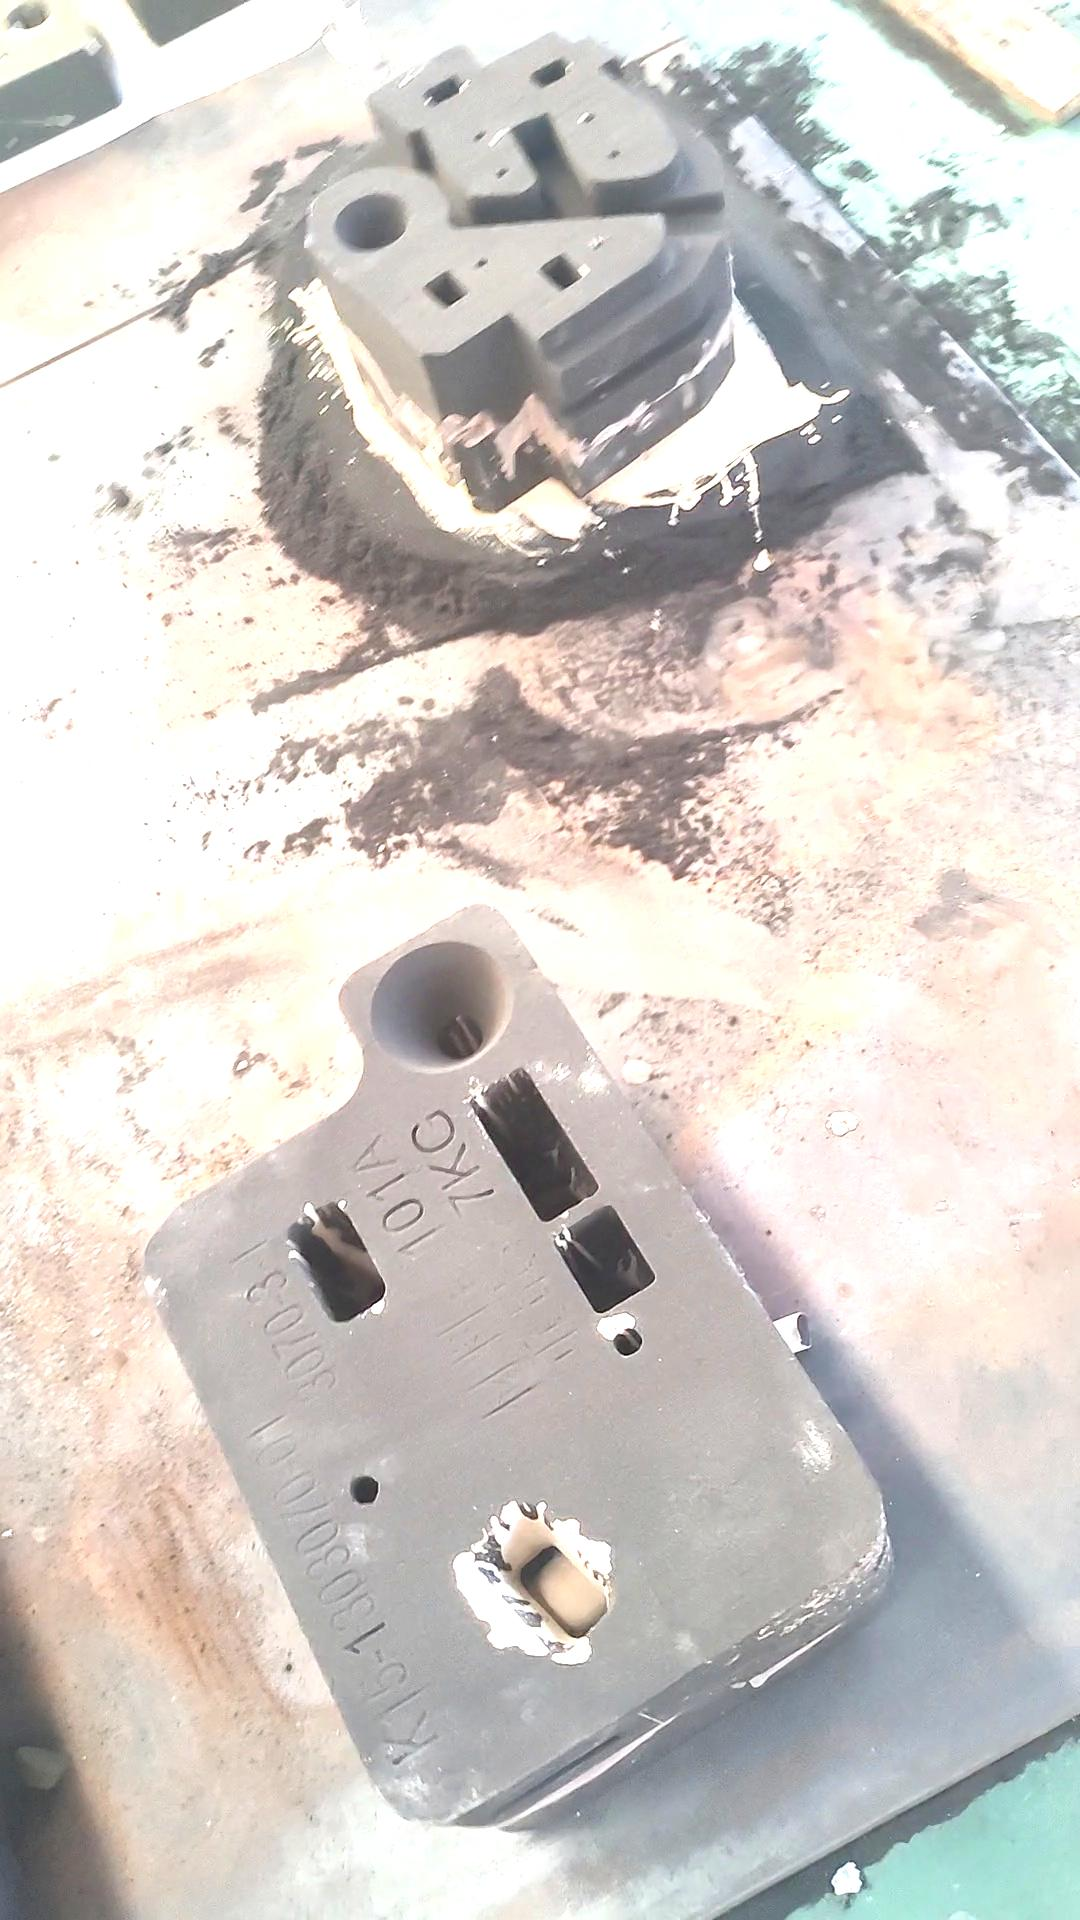pouring hole: (369, 940, 514, 1073), (335, 194, 407, 251)
